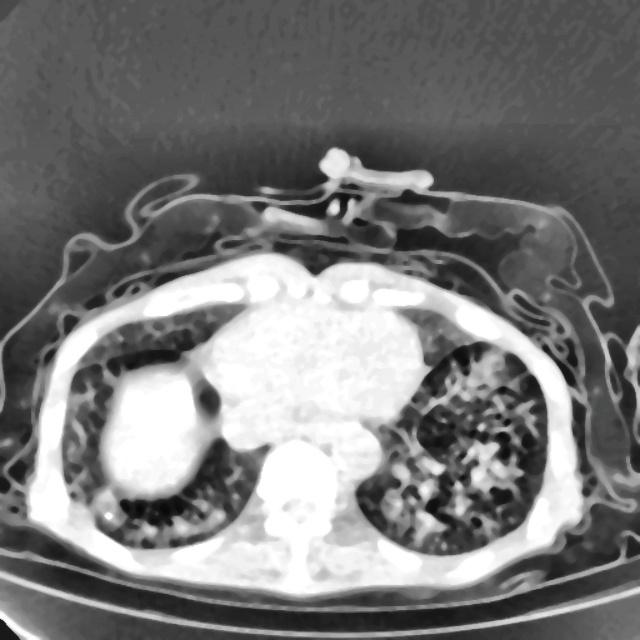covid: (1, 150, 639, 610)
